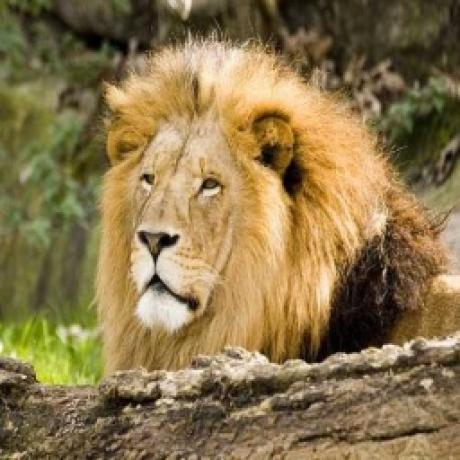Lion: (91, 32, 460, 380)
